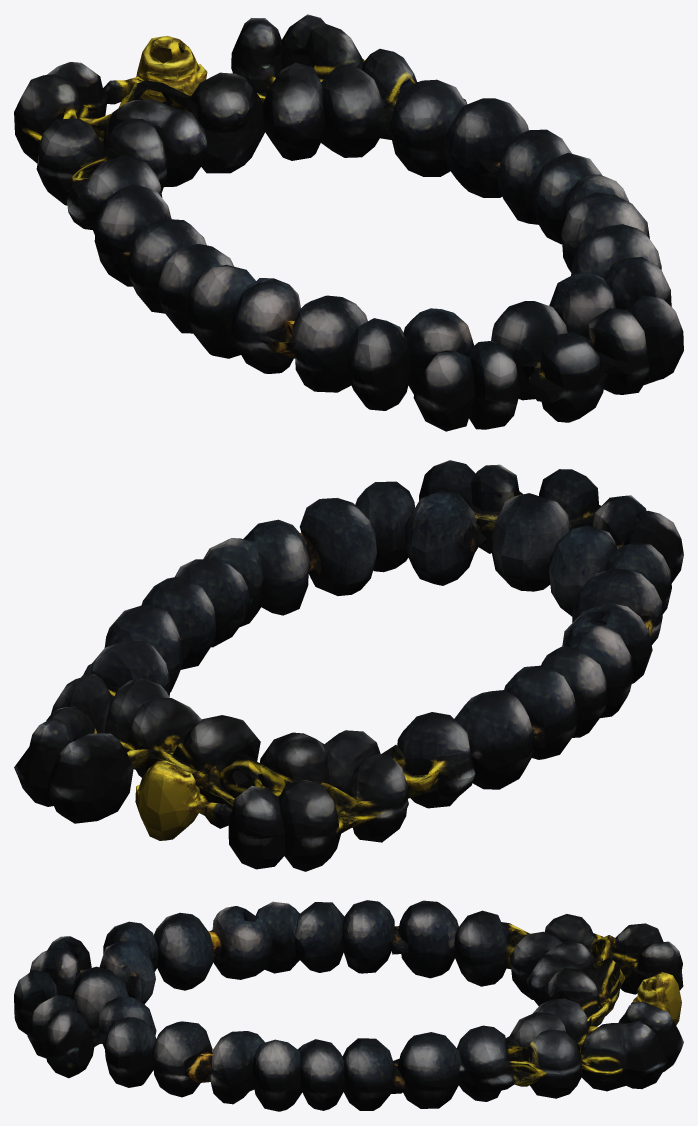
File: lava-stone-bead-necklace-art-deco.jpeg.glb
3 renders of one model, top to bottom at view 1: azimuth 30°, elevation 25°; view 2: azimuth 150°, elevation 25°; view 3: azimuth 270°, elevation 25°, orthographic. The views are drawn at different scales.
Visible parts, largest first — view 1: world; view 2: world; view 3: world.
Boxes of the visible parts, bbox=[...] form: world: bbox=[14, 14, 683, 431]; world: bbox=[14, 460, 683, 871]; world: bbox=[14, 900, 683, 1111].
Size of the model in its own units: 0.5823 by 0.1208 by 1.
1 material, 1 textured.
